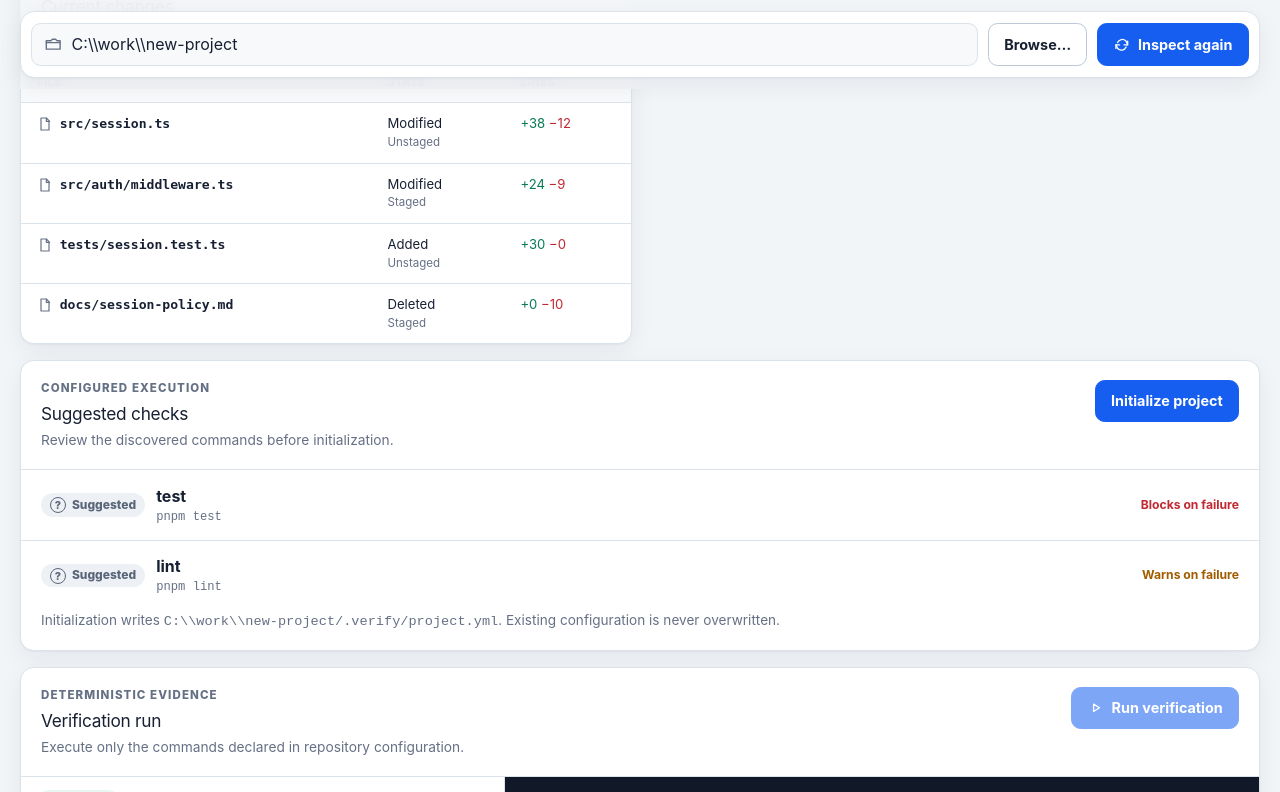
Test: desktop dashboard › initializes a discovered configuration before enabling verification
(page scrolled)
Expected: the button "Run verification" is disabled, x1=1071 y1=687 x2=1239 y2=729
Click the button "Initialize project".
click(1167, 401)  # box x1=1095 y1=380 x2=1239 y2=422
(page scrolled)
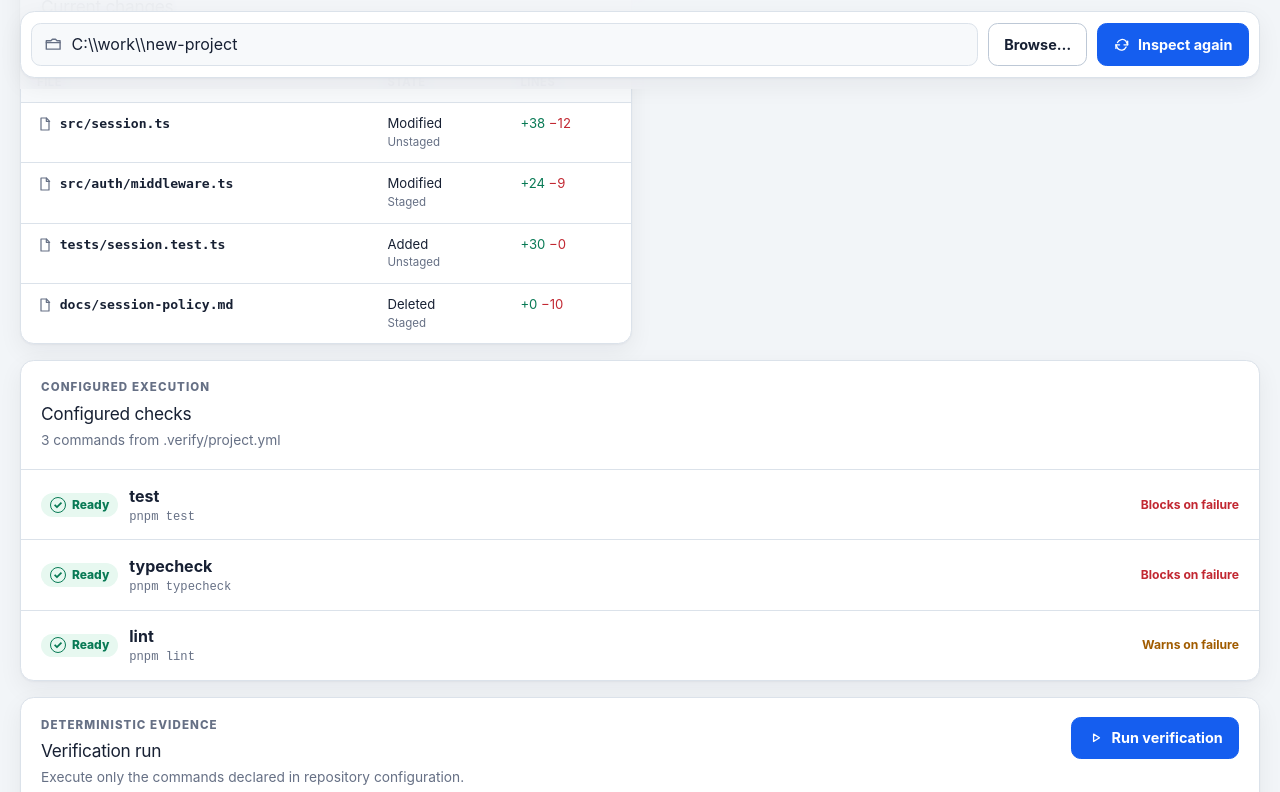
Result: the button "Run verification" is enabled at x1=1071 y1=717 x2=1239 y2=759
Result: the element "Configured checks" is shown at x1=20 y1=360 x2=1260 y2=681
